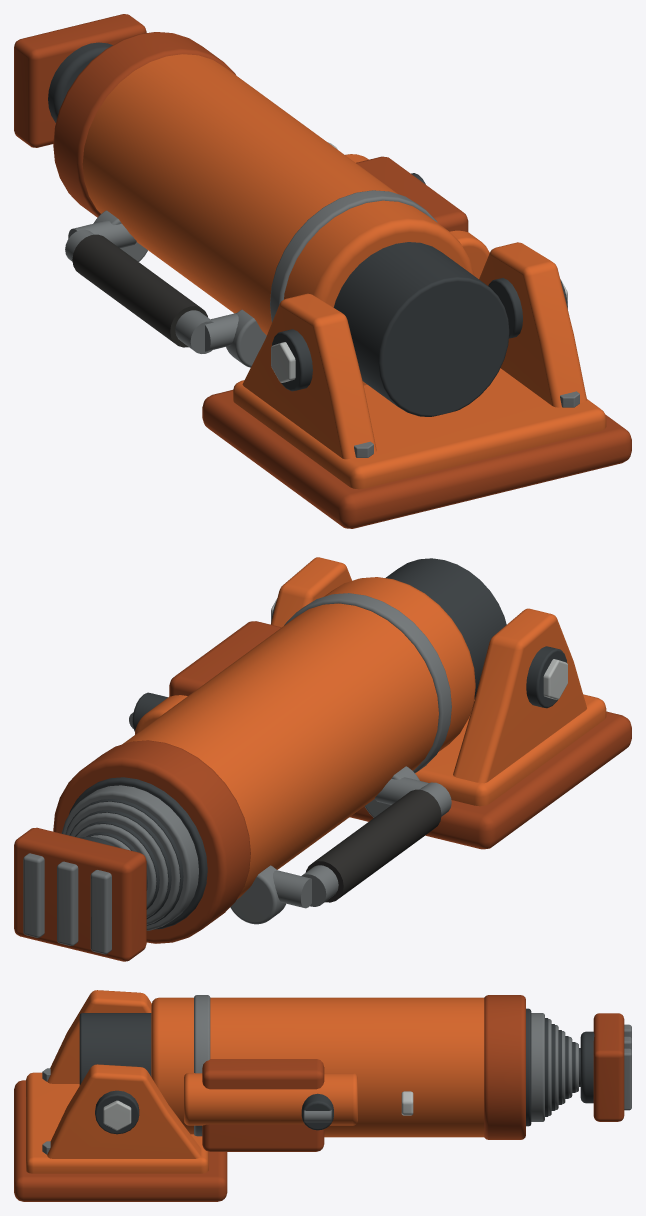
File: recovery_jack.glb
3 views of the same model, one above another, from view 1: azimuth 30°, elevation 25°; view 2: azimuth 150°, elevation 25°; view 3: azimuth 270°, elevation 25° (orthographic). The views are drawn at different scales.
Parts seen in each view (by area): view 1: CylinderHousing, Skid, SaddleMesh; view 2: CylinderHousing, Skid, SaddleMesh, OuterRodMesh, SecondRodMesh, ThirdRodMesh, FourthRodMesh; view 3: CylinderHousing, Skid, SaddleMesh, OuterRodMesh, SecondRodMesh, ThirdRodMesh, FourthRodMesh, FifthRodMesh.
Boxes of the visible parts, <box> form: CylinderHousing: <box>53,32,509,416</box>; Skid: <box>202,242,631,528</box>; SaddleMesh: <box>14,14,146,147</box>; CylinderHousing: <box>53,558,506,943</box>; Skid: <box>270,557,631,849</box>; SaddleMesh: <box>14,827,146,961</box>; OuterRodMesh: <box>61,785,198,930</box>; SecondRodMesh: <box>65,801,180,924</box>; ThirdRodMesh: <box>70,812,168,917</box>; FourthRodMesh: <box>76,824,156,907</box>; CylinderHousing: <box>79,995,531,1151</box>; Skid: <box>14,990,227,1201</box>; SaddleMesh: <box>580,1013,631,1121</box>; OuterRodMesh: <box>531,1013,548,1121</box>; SecondRodMesh: <box>548,1019,555,1115</box>; ThirdRodMesh: <box>555,1025,561,1110</box>; FourthRodMesh: <box>562,1031,568,1104</box>; FifthRodMesh: <box>568,1036,575,1098</box>.
Bounding box in the file's own units: 0.286 × 0.196 × 0.724.
